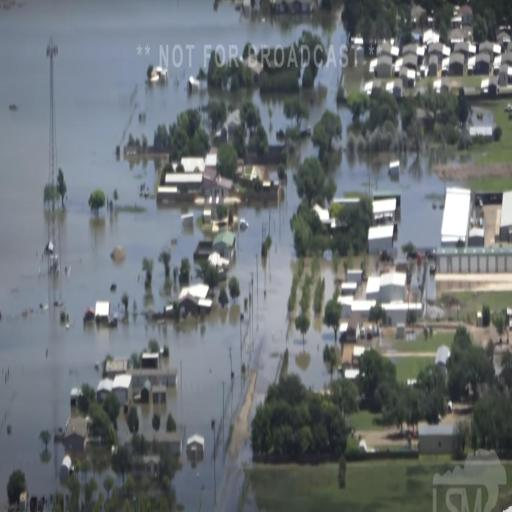flood: (0, 187, 432, 510), (328, 147, 446, 258)
house: (442, 183, 472, 251), (127, 362, 179, 389), (367, 272, 408, 302), (100, 374, 133, 408), (180, 284, 212, 316), (166, 172, 204, 194), (66, 416, 88, 450), (213, 228, 237, 258), (368, 225, 394, 252), (186, 431, 206, 466), (210, 175, 234, 203), (374, 197, 398, 224), (501, 191, 512, 241), (448, 50, 466, 78), (376, 56, 394, 83), (94, 300, 112, 322), (477, 53, 491, 79), (347, 268, 364, 285), (427, 54, 439, 77), (404, 54, 419, 71), (341, 280, 357, 295)
